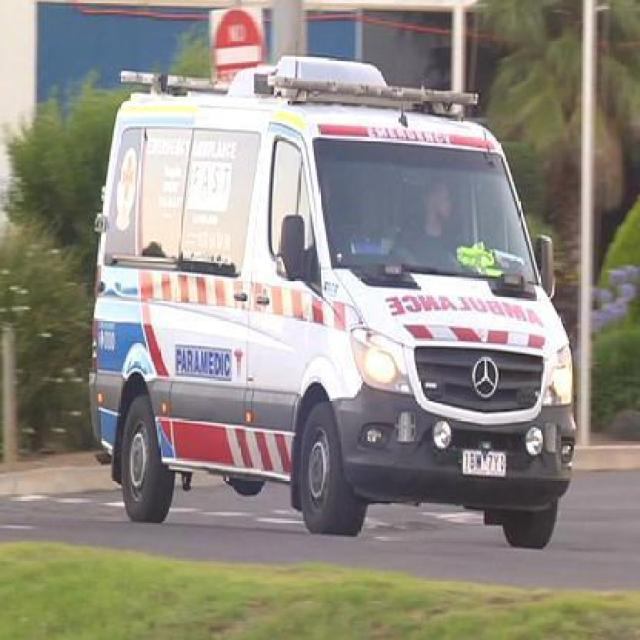Ambulance: (71, 62, 574, 546)
